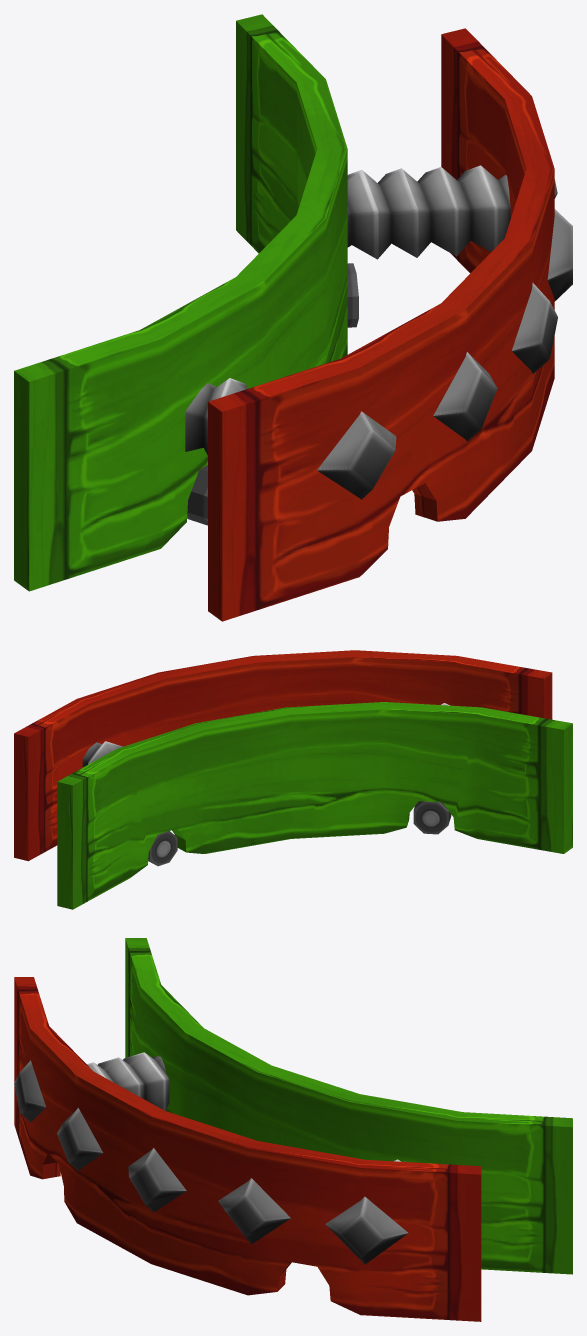
File: dynamic_arched_fence_burger_03.fbx
3 renders of one model, top to bottom at view 1: azimuth 30°, elevation 25°; view 2: azimuth 150°, elevation 25°; view 3: azimuth 270°, elevation 25°, orthographic. The views are drawn at different scales.
Parts seen in each view (by area): view 1: dynamic_arched_fence_burger_03; view 2: dynamic_arched_fence_burger_03; view 3: dynamic_arched_fence_burger_03.
Part boxes in pixels (box(x1,y1,x2,y2)): dynamic_arched_fence_burger_03: box(14, 14, 572, 621); dynamic_arched_fence_burger_03: box(14, 650, 572, 909); dynamic_arched_fence_burger_03: box(14, 938, 572, 1321).
Size of the model in its own units: 139 by 40 by 138.
